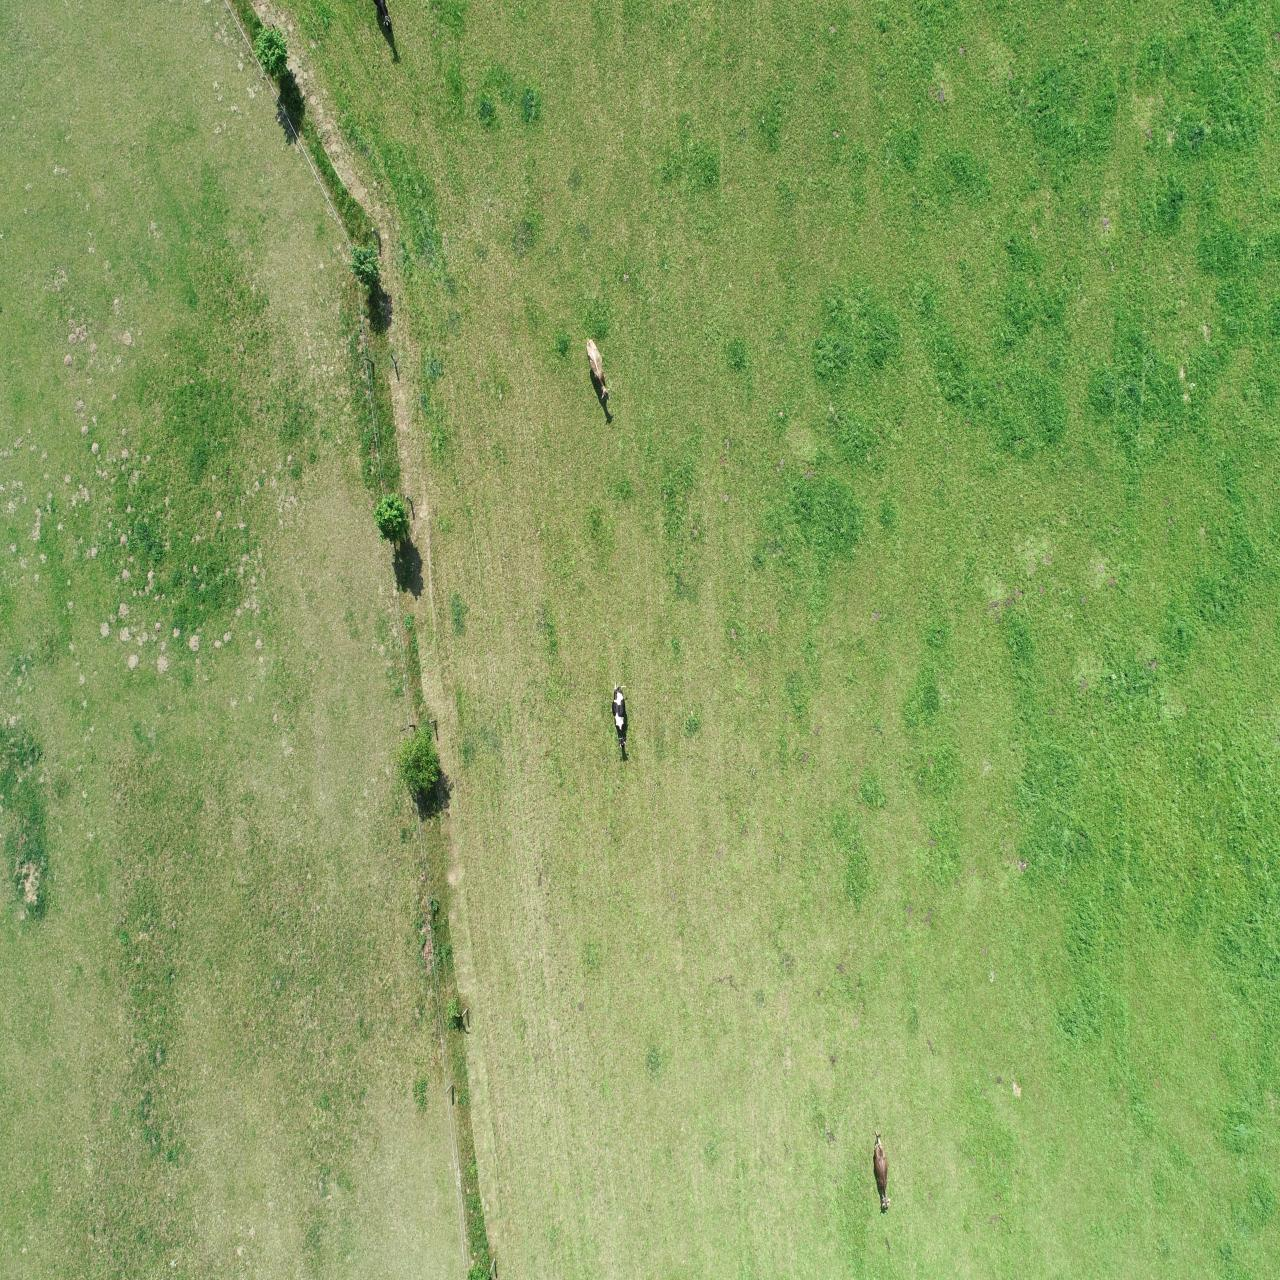cow: (584, 336, 614, 403), (870, 1129, 893, 1211), (611, 680, 632, 753)
